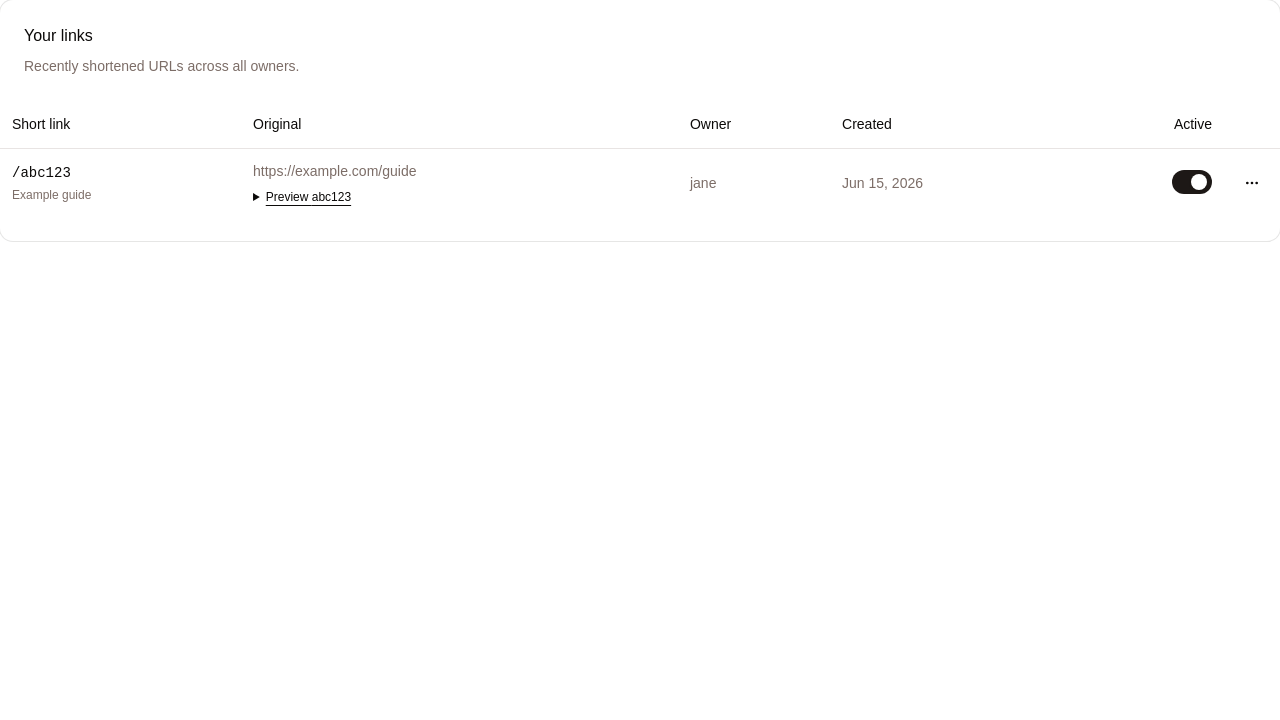
UrlTable › cancels deletion without mutating, then confirms the selected link
Click the button named "Actions" at x=1252, y=182, box [1236, 166, 1268, 198]
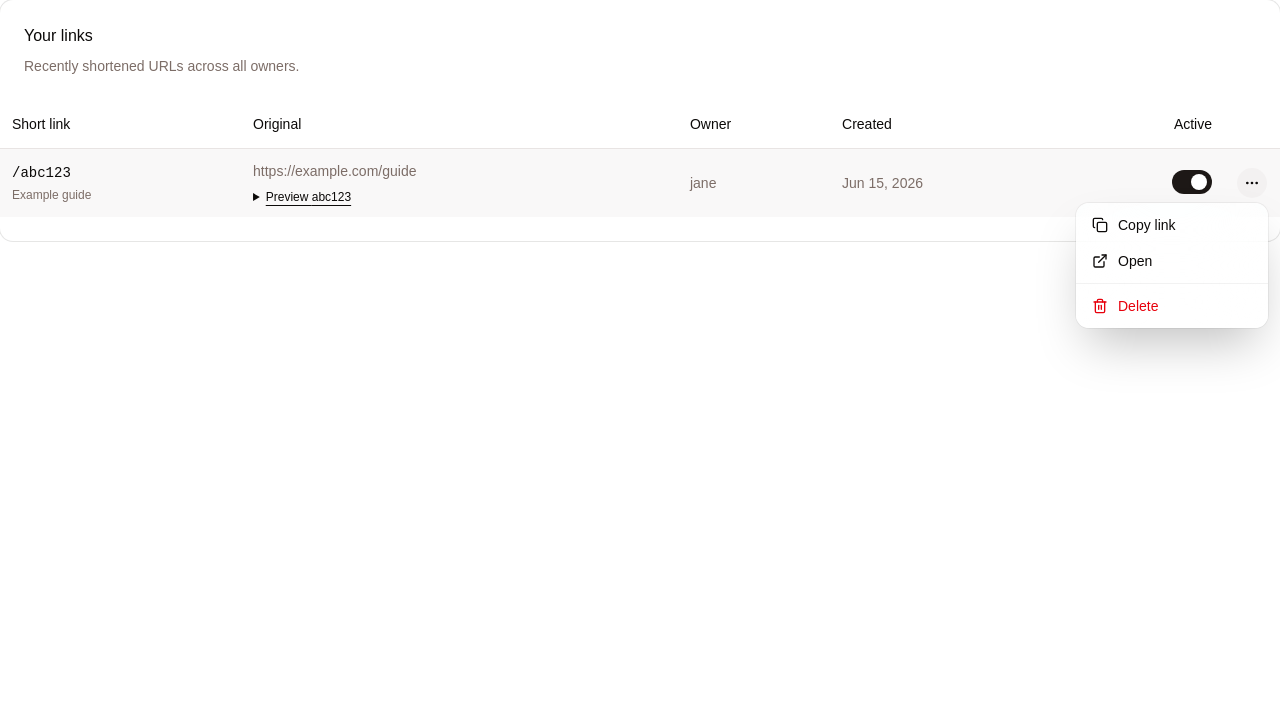
Click the menu item "Delete" at x=1125, y=306, box [1092, 298, 1158, 314]
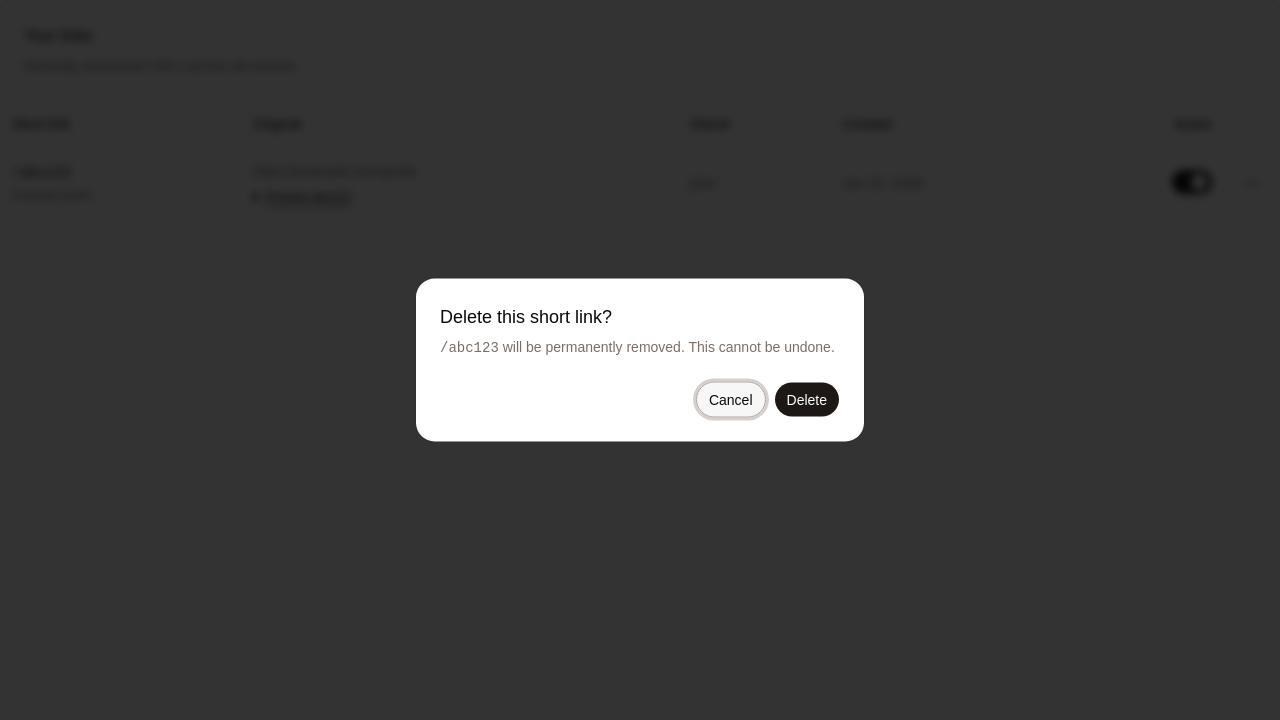
expect the dialog "Delete this short link?" shows "/abc123 will be permanently removed": met, box [416, 278, 864, 442]
Click the button "Cancel" at x=731, y=400, box [696, 382, 766, 418]
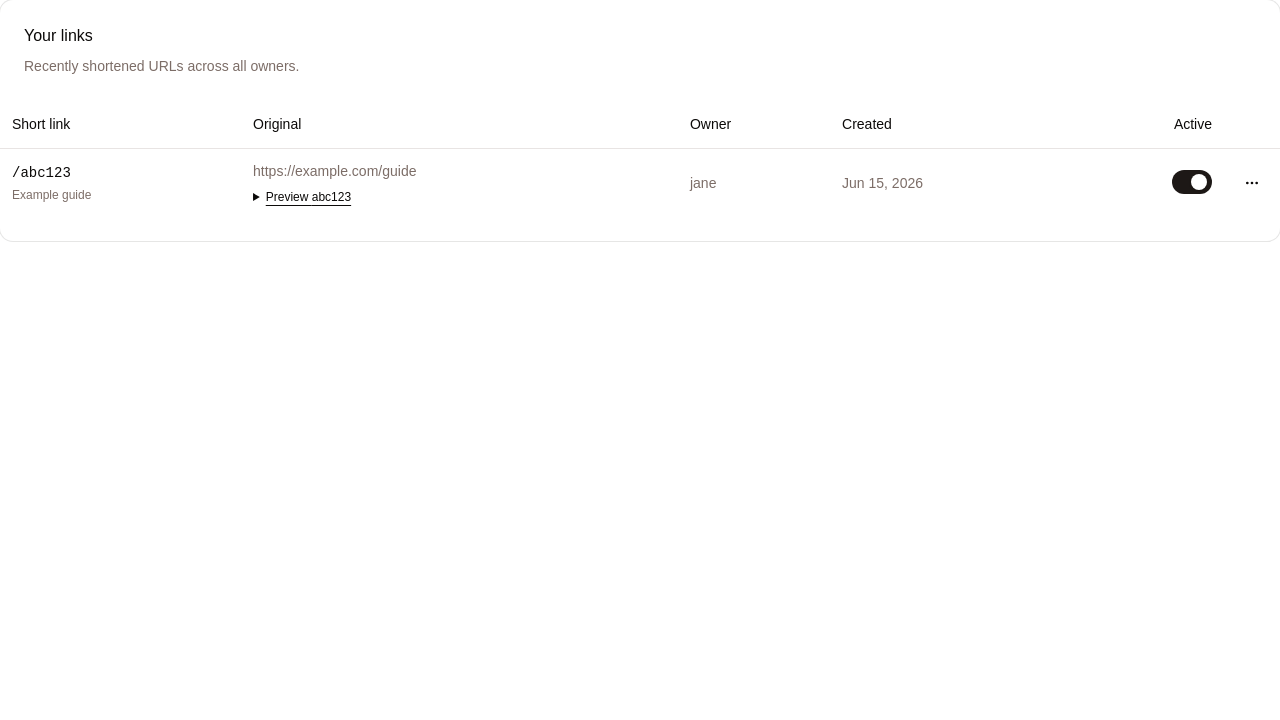
expect the dialog is gone: met
Click the button named "Actions" at x=1252, y=182, box [1236, 166, 1268, 198]
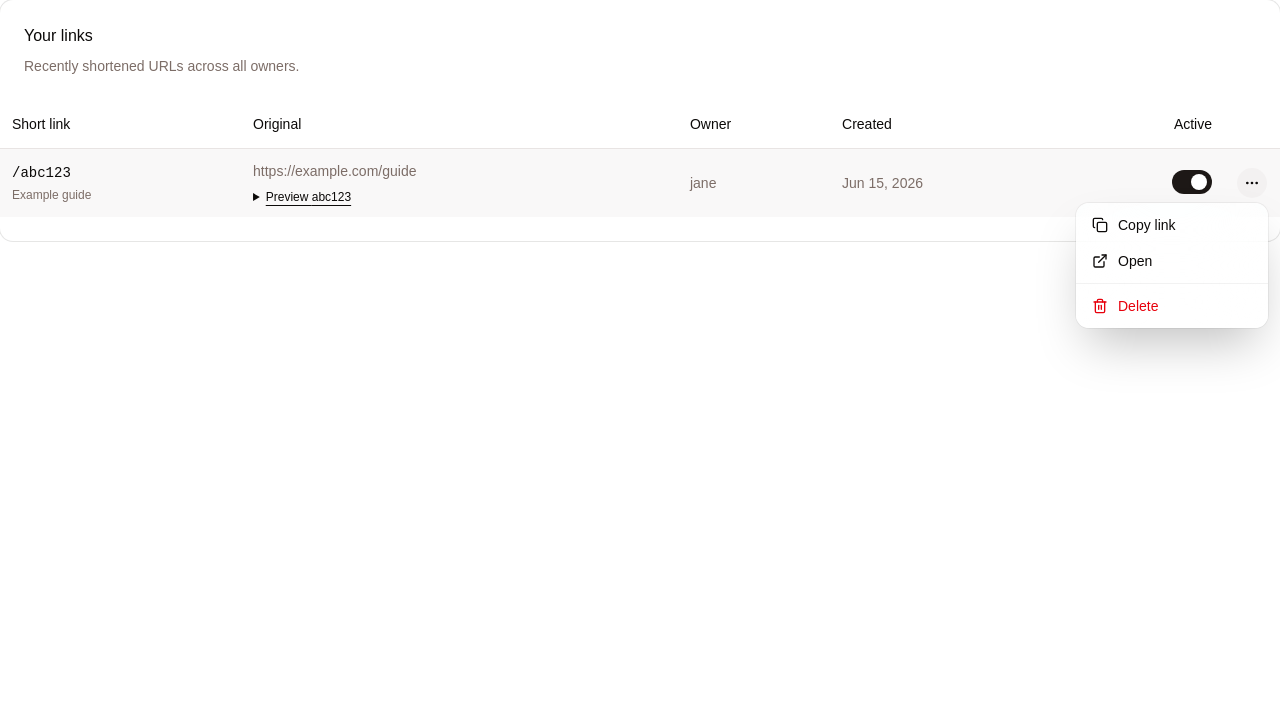
Click the menu item "Delete" at x=1125, y=306, box [1092, 298, 1158, 314]
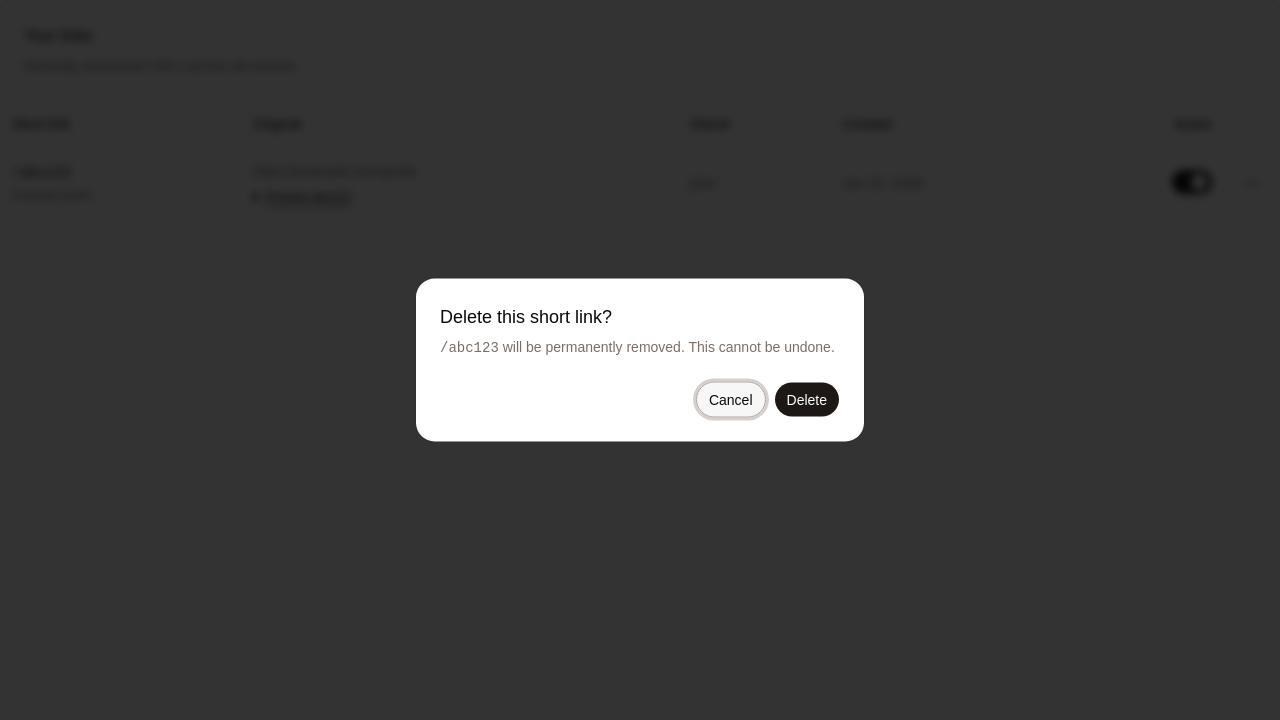
Click the button "Delete" at x=807, y=400, box [774, 382, 840, 418]
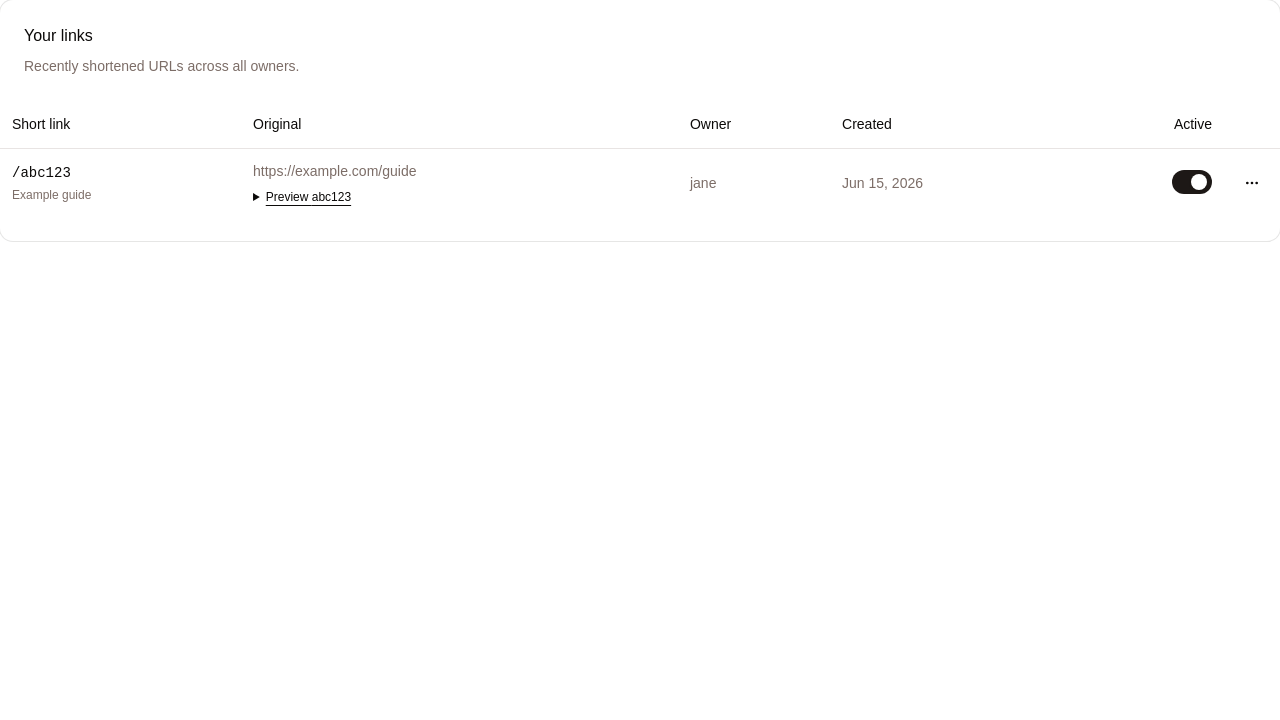
expect the dialog is gone: met
